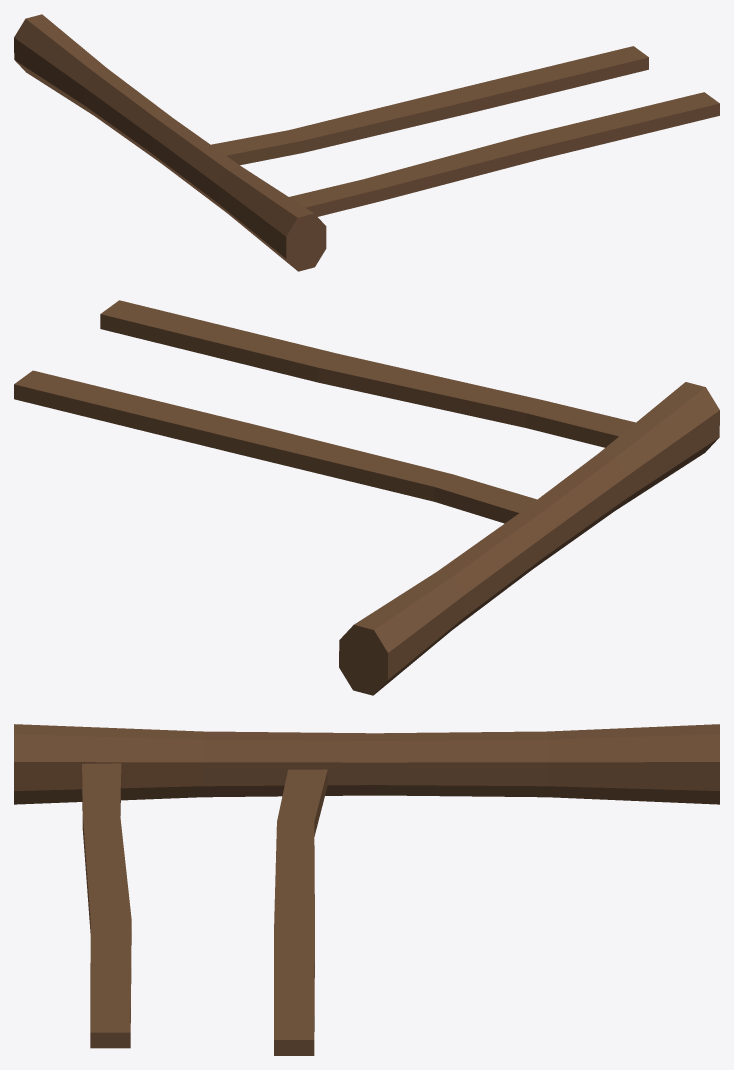
File: Barrier_03_Left_02.fbx
The picture shows the model from 3 angles, top to bottom: view 1: azimuth 30°, elevation 25°; view 2: azimuth 150°, elevation 25°; view 3: azimuth 270°, elevation 25°; orthographic projection. The views are drawn at different scales.
Parts seen in each view (by area): view 1: Barriere_3 bord gauche.002; view 2: Barriere_3 bord gauche.002; view 3: Barriere_3 bord gauche.002.
Boxes of the visible parts, x1,y1,x2,y2 form: Barriere_3 bord gauche.002: [14, 14, 719, 271]; Barriere_3 bord gauche.002: [14, 300, 719, 695]; Barriere_3 bord gauche.002: [14, 724, 719, 1055].
Bounding box in the file's own units: 98.36 × 11.02 × 100.
